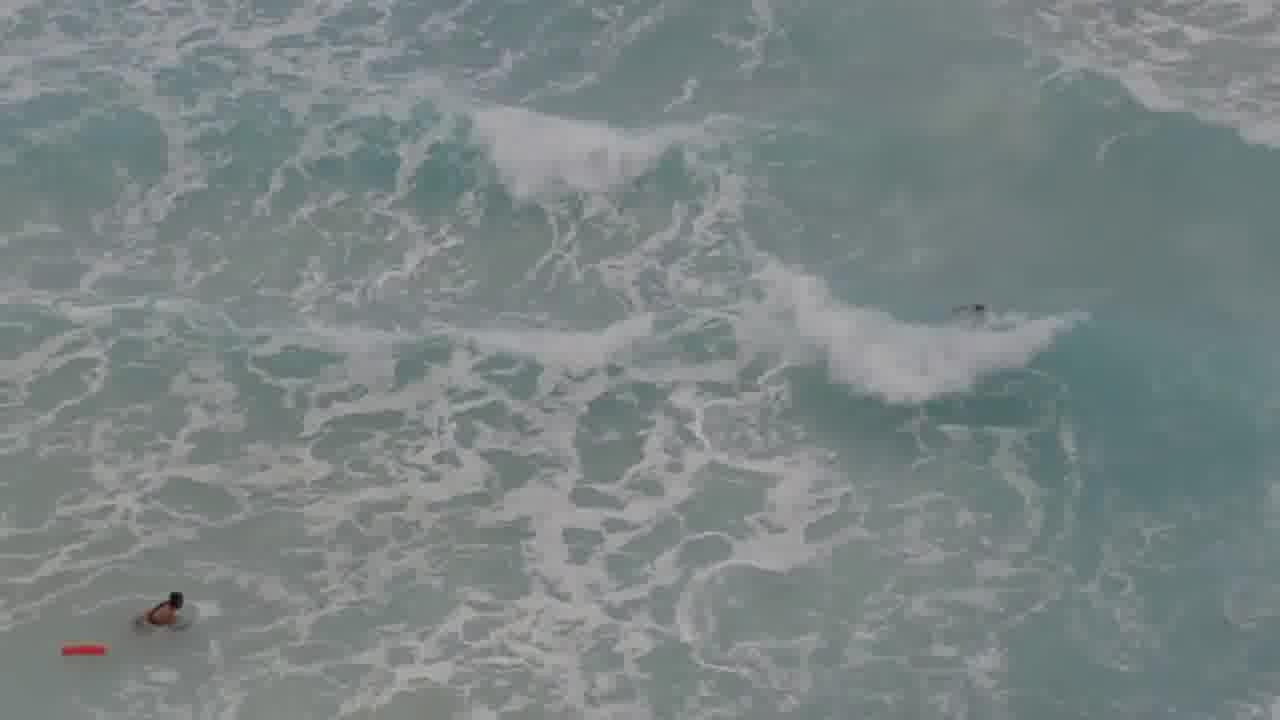swimmer: (134, 585, 197, 628), (953, 281, 991, 336)
